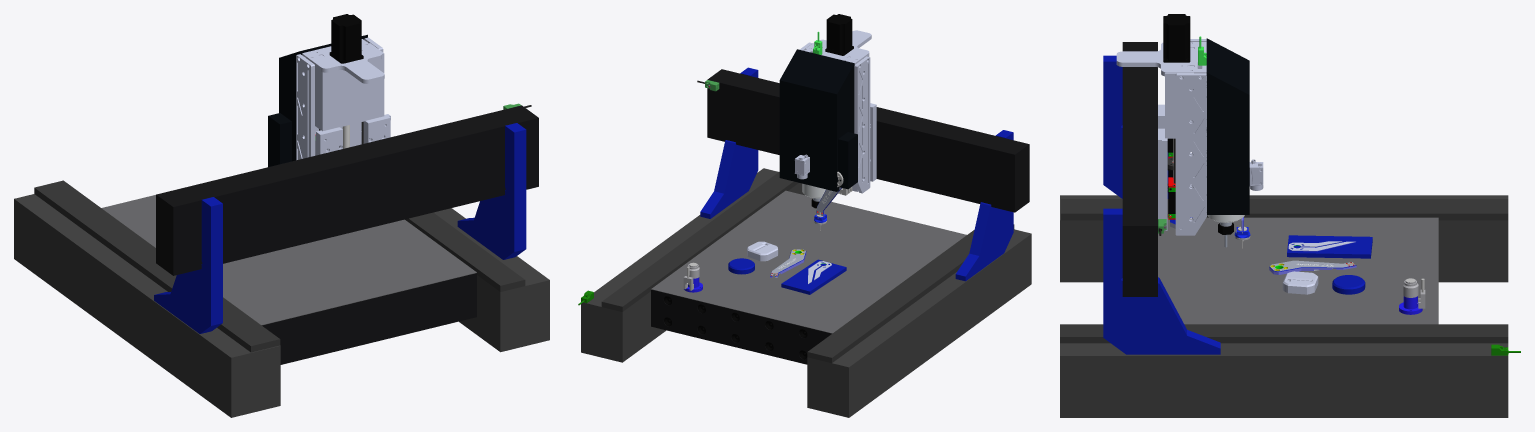
Rendered from Standardcncmodel.glb.
The picture shows the model from 3 angles, left to right: view 1: azimuth 30°, elevation 25°; view 2: azimuth 150°, elevation 25°; view 3: azimuth 270°, elevation 25°; orthographic projection. The views are drawn at different scales.
Visible parts, largest first — view 1: cnc22_0; view 2: cnc22_0; view 3: cnc22_0.
Part boxes in pixels (x1,y1,x2,y2): cnc22_0: [14, 14, 549, 417]; cnc22_0: [578, 14, 1031, 417]; cnc22_0: [1060, 14, 1520, 417].
Bounding box in the file's own units: 5.4 × 4.31 × 5.55.
